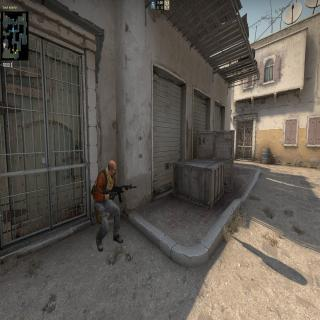T-Head: (108, 158, 117, 180)
